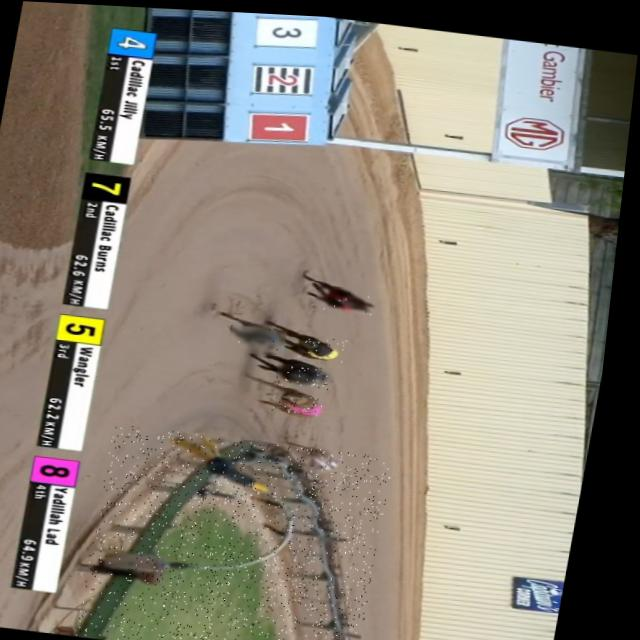dog_eight: (279, 385, 337, 414)
dog_five: (305, 331, 353, 358)
dog_four: (233, 321, 293, 354)
dog_one: (319, 281, 384, 311)
dog_seven: (281, 358, 339, 387)
dog_two: (301, 445, 350, 469)
rail: (89, 436, 365, 640)
